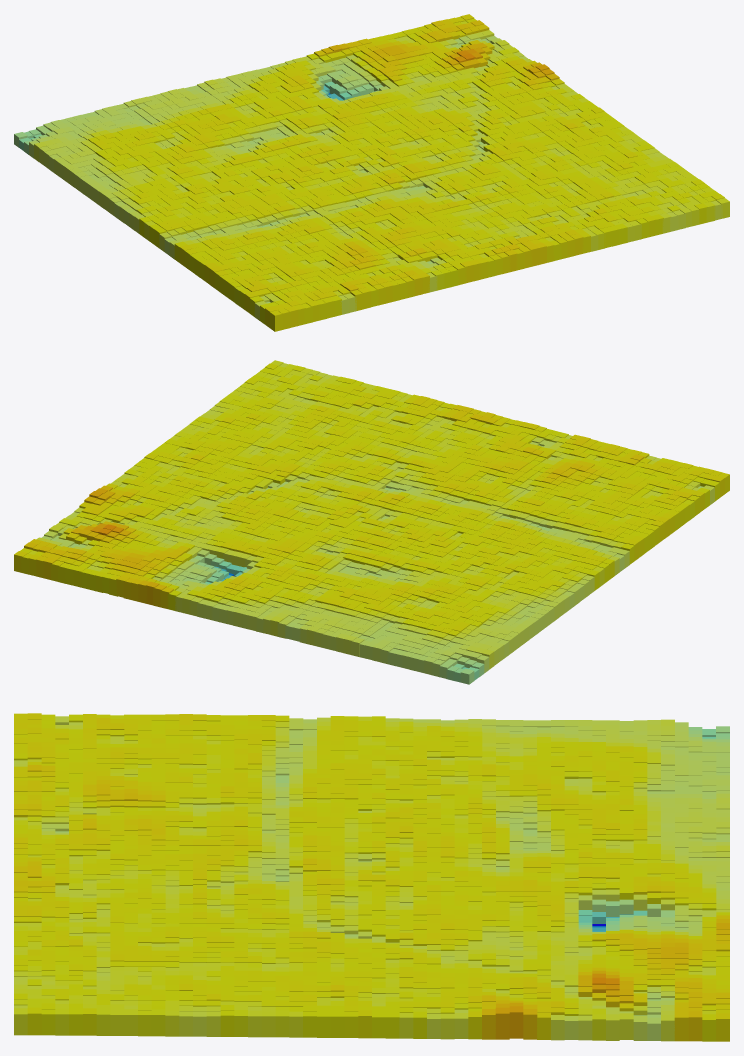
Rendered from population.glb.
3 views of the same model, one above another, from view 1: azimuth 30°, elevation 25°; view 2: azimuth 150°, elevation 25°; view 3: azimuth 270°, elevation 25° (orthographic). The views are drawn at different scales.
Visible parts, largest first — view 1: population; view 2: population; view 3: population.
Part boxes in pixels (box(x1,y1,x2,y2)): population: box(14, 14, 729, 331); population: box(14, 360, 729, 684); population: box(14, 713, 729, 1041).
Bounding box in the file's own units: 5219 × 263 × 5178.
